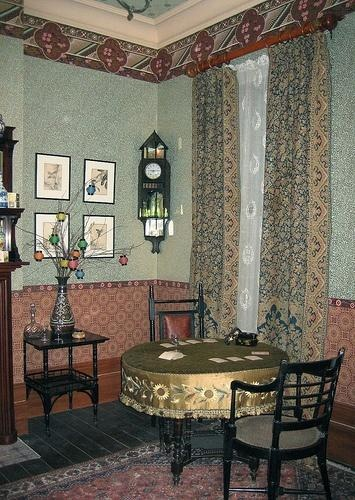chair: (220, 348, 348, 500), (147, 281, 210, 339)
diningtable: (118, 334, 293, 482)
